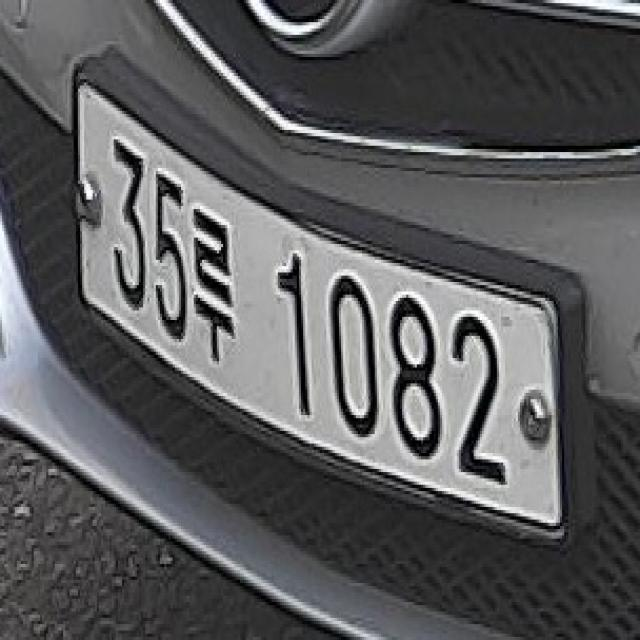0: (324, 263, 381, 440)
1: (276, 247, 309, 418)
2: (448, 310, 509, 485)
3: (105, 136, 152, 311)
5: (150, 168, 190, 339)
8: (388, 288, 444, 460)
license_plate: (70, 76, 568, 542)
lu: (185, 203, 236, 364)
